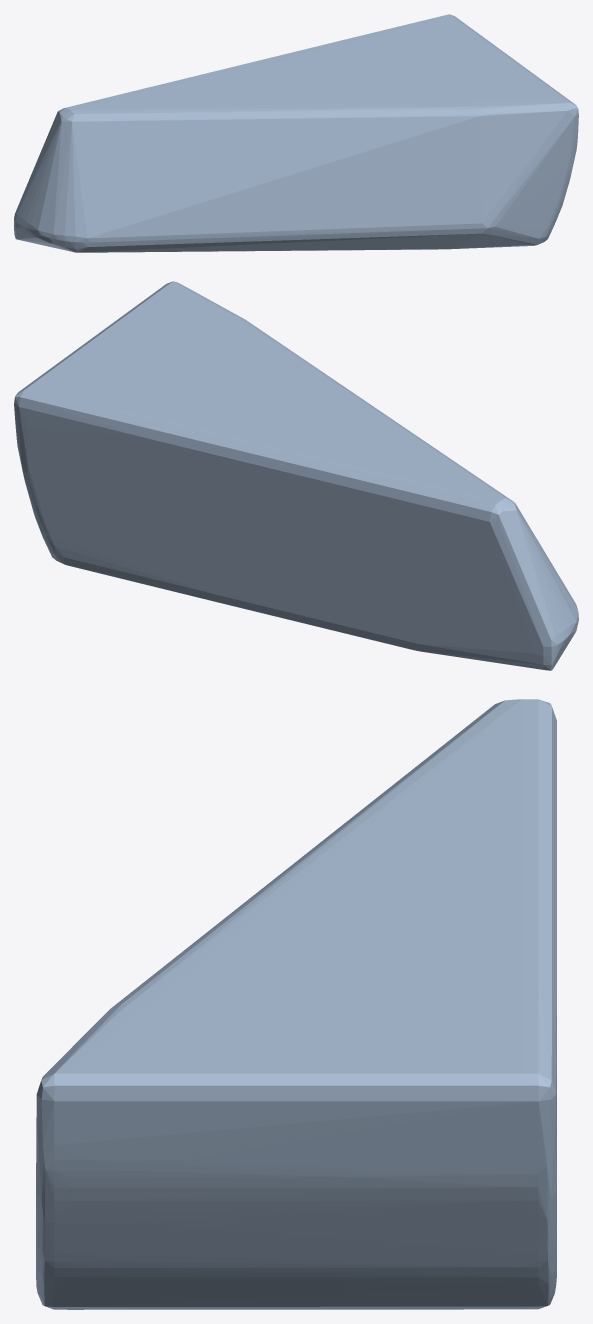
The model's file is right_shoulder_roll_link_part_6.obj.
3 views of the same model, one above another, from view 1: azimuth 30°, elevation 25°; view 2: azimuth 150°, elevation 25°; view 3: azimuth 270°, elevation 25° (orthographic). The views are drawn at different scales.
Bounding box in the file's own units: 0.0879 × 0.0257 × 0.045.
